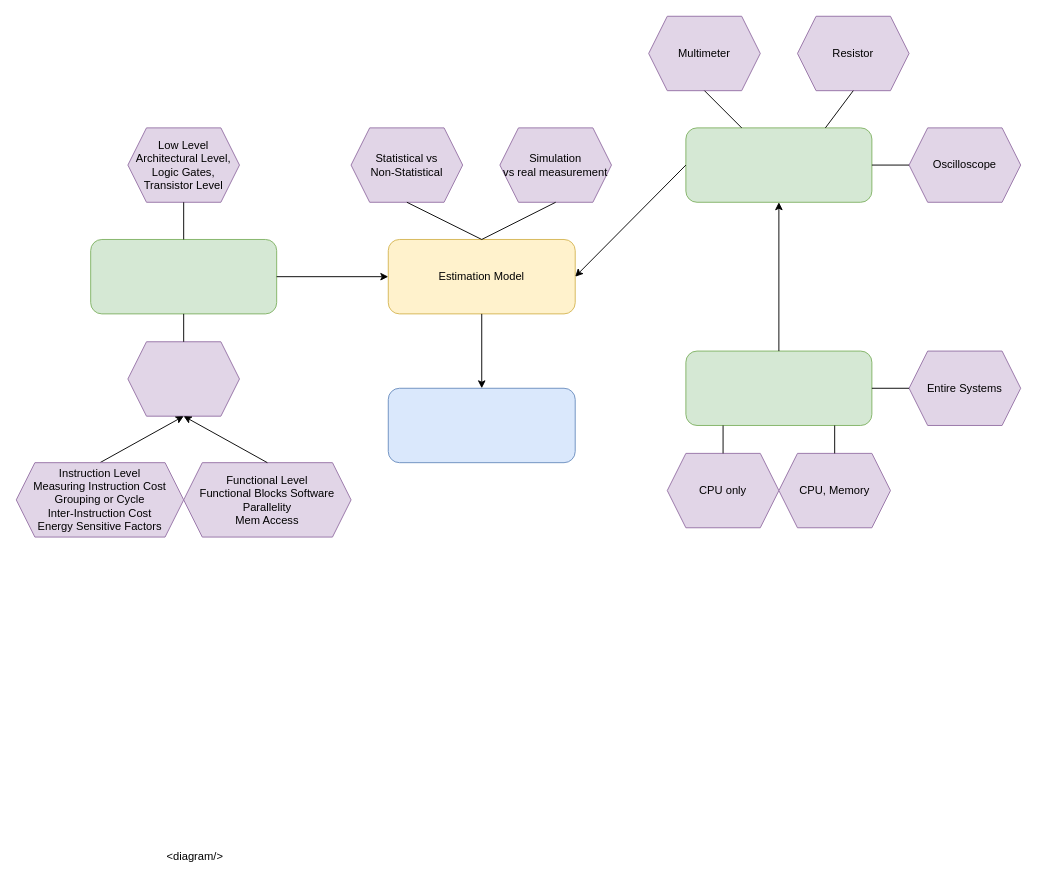
Some shapes in this 1037 by 888 pixel diagram are drawn without their labels. The shapes that lost their labels are listed below. From the top down, each one's centre as x and y in pixels, then its label:
(x=778, y=164): Power Measuring Method
(x=183, y=276): Software Measurement
(x=183, y=378): High Level Instruction Level Functional Level
(x=778, y=387): Measuring Architecture
(x=481, y=425): Power Consumption Prediction
